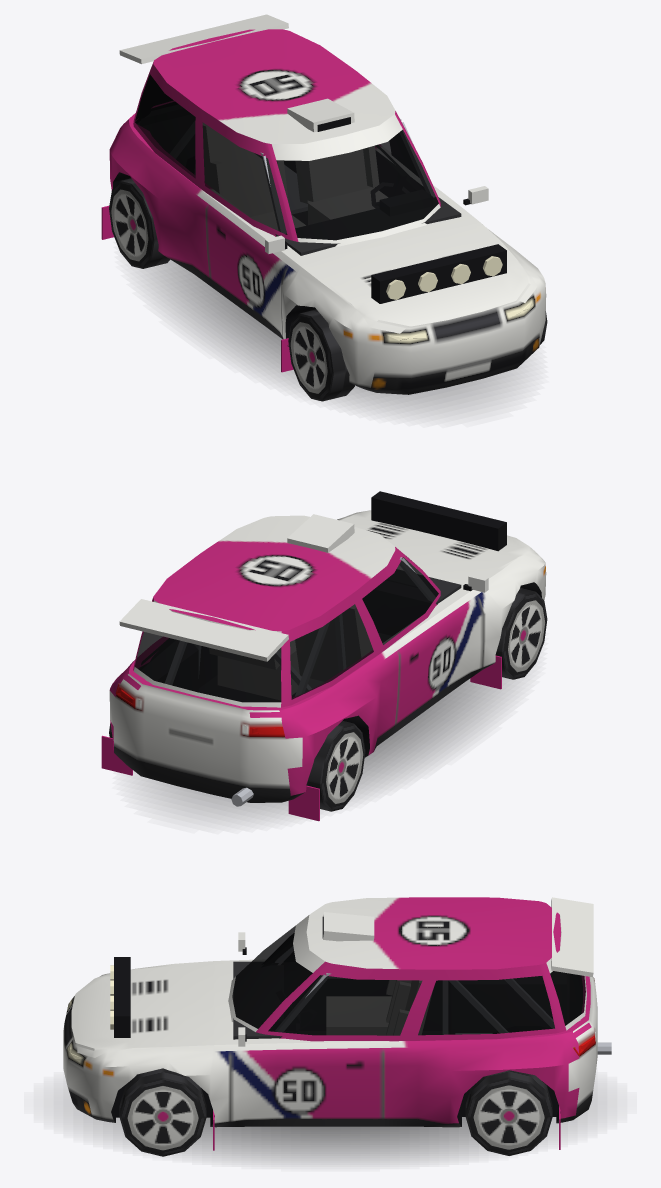
The model's file is quartzo.glb.
The picture shows the model from 3 angles, top to bottom: view 1: azimuth 30°, elevation 25°; view 2: azimuth 150°, elevation 25°; view 3: azimuth 270°, elevation 25°; orthographic projection. The views are drawn at different scales.
Parts seen in each view (by area): view 1: Carroceria, Interior, Capo_malha, Porta_D_malha, Sombra, Roda_DD, Roda_TD, Tampa_malha, Porta_E_malha; view 2: Carroceria, Tampa_malha, Interior, Porta_D_malha, Sombra, Capo_malha, Roda_TD, Roda_DD; view 3: Carroceria, Interior, Porta_E_malha, Sombra, Capo_malha, Roda_DE, Roda_TE, Tampa_malha.
Part boxes in pixels (x1,y1,x2,y2): Carroceria: (101,29,546,394); Interior: (138,105,461,255); Capo_malha: (308,224,537,333); Porta_D_malha: (206,126,292,337); Sombra: (144,260,522,413); Roda_DD: (288,309,354,401); Roda_TD: (109,178,170,268); Tampa_malha: (119,14,288,122); Porta_E_malha: (390,111,488,205); Carroceria: (101,511,546,821); Tampa_malha: (119,599,288,780); Interior: (138,557,461,701); Porta_D_malha: (379,548,488,723); Sombra: (141,677,516,819); Capo_malha: (342,491,536,579); Roda_TD: (306,721,365,811); Roda_DD: (495,588,547,679); Carroceria: (63,897,611,1150); Interior: (233,942,582,1039); Porta_E_malha: (230,963,382,1121); Sombra: (63,1089,597,1162); Capo_malha: (77,957,213,1057); Roda_DE: (119,1068,206,1156); Roda_TE: (465,1070,552,1155); Tampa_malha: (546,897,597,1066).
Size of the model in its own units: 2.38 by 1.45 by 4.5.
Materials: 14 (5 with a texture image).
